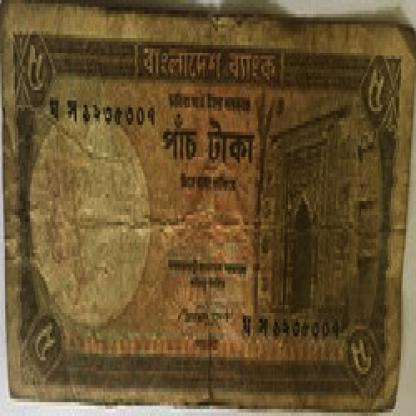Five Taka: (18, 35, 52, 108), (27, 315, 63, 371), (362, 55, 388, 132), (348, 326, 381, 381)
